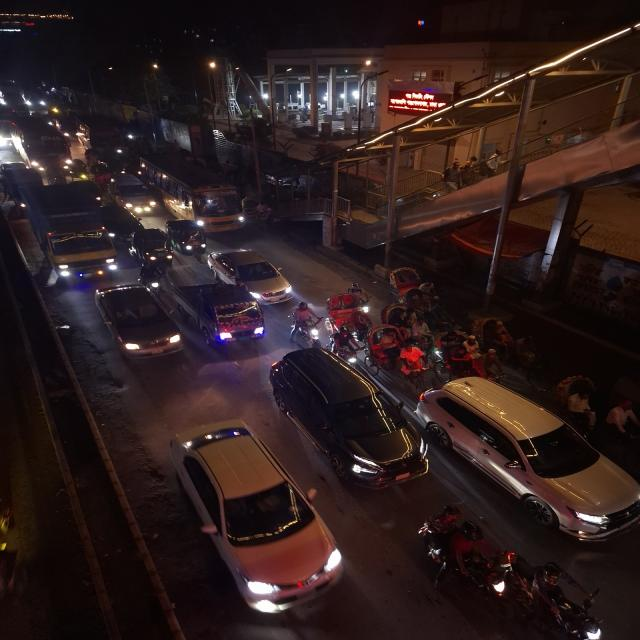bus: (138, 150, 250, 231), (14, 122, 70, 172), (86, 122, 127, 158), (0, 115, 16, 157)
car: (419, 372, 640, 544), (160, 422, 342, 622), (270, 346, 428, 492), (93, 282, 184, 364), (207, 247, 298, 301), (109, 172, 156, 216)
cng: (129, 225, 173, 269), (165, 218, 208, 258)
motorcycle: (417, 500, 514, 610), (499, 548, 612, 640), (286, 300, 320, 346), (137, 260, 164, 290)
rickshaw: (552, 370, 640, 452), (186, 283, 268, 353), (474, 314, 550, 386), (366, 324, 433, 384), (387, 263, 446, 321), (324, 295, 378, 335)
truck: (19, 179, 118, 282)
